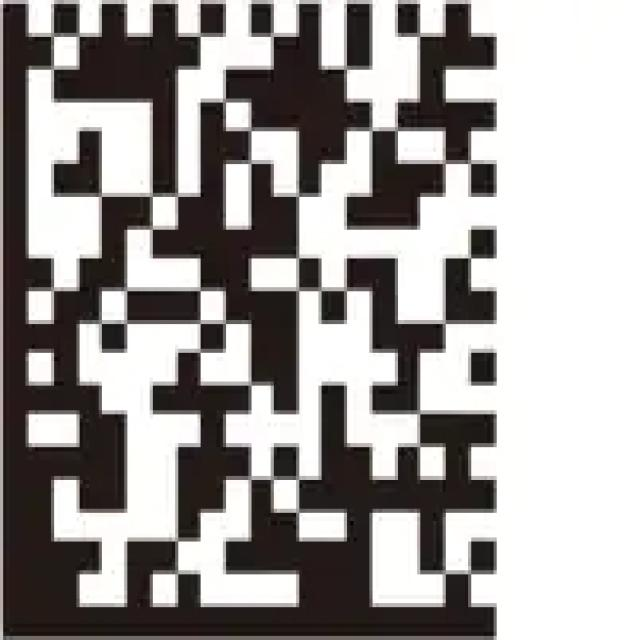datamatrix: (3, 4, 497, 640)
